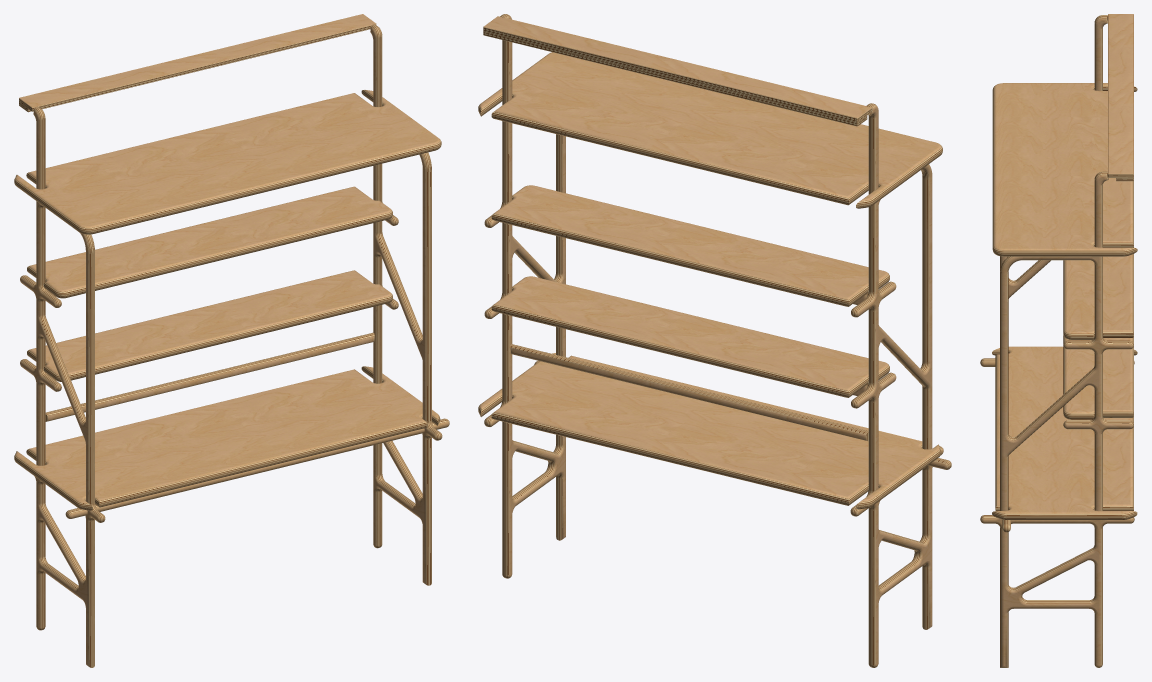
File: work-wall.glb
3 renders of one model, left to right at view 1: azimuth 30°, elevation 25°; view 2: azimuth 150°, elevation 25°; view 3: azimuth 270°, elevation 25°, orthographic. The views are drawn at different scales.
Visible parts, largest first — view 1: Work Wall: top_shelf, Work Wall: desk_top, Work Wall: shelf_2, Work Wall: shelf_1, Work Wall: side_frame_L, Work Wall: side_frame_R, Work Wall: top_rail_upper, Work Wall: back_rail_low, Work Wall: desk_front_rail; view 2: Work Wall: top_shelf, Work Wall: desk_top, Work Wall: shelf_2, Work Wall: shelf_1, Work Wall: side_frame_L, Work Wall: side_frame_R, Work Wall: top_rail_upper, Work Wall: back_rail_low, Work Wall: top_rail_lower; view 3: Work Wall: top_shelf, Work Wall: desk_top, Work Wall: side_frame_R, Work Wall: shelf_2, Work Wall: top_rail_upper, Work Wall: shelf_1, Work Wall: side_frame_L.
Part boxes in pixels (x1,y1,x2,y2): Work Wall: top_shelf: (14,90,441,234); Work Wall: desk_top: (14,366,440,510); Work Wall: shelf_2: (27,186,392,298); Work Wall: shelf_1: (27,270,392,381); Work Wall: side_frame_L: (20,106,105,667); Work Wall: side_frame_R: (370,24,442,585); Work Wall: top_rail_upper: (19,14,376,111); Work Wall: back_rail_low: (45,332,374,421); Work Wall: desk_front_rail: (65,418,449,518); Work Wall: top_shelf: (478,52,942,208); Work Wall: desk_top: (478,353,941,509); Work Wall: shelf_2: (491,185,889,306); Work Wall: shelf_1: (491,276,889,397); Work Wall: side_frame_L: (850,103,943,667); Work Wall: side_frame_R: (484,14,565,578); Work Wall: top_rail_upper: (483,16,871,122); Work Wall: back_rail_low: (510,344,868,441); Work Wall: top_rail_lower: (483,31,867,126); Work Wall: top_shelf: (992,83,1137,256); Work Wall: desk_top: (992,346,1137,519); Work Wall: side_frame_R: (980,171,1134,667); Work Wall: shelf_2: (1063,254,1133,339); Work Wall: top_rail_upper: (1108,14,1133,177); Work Wall: shelf_1: (1063,335,1133,419); Work Wall: side_frame_L: (980,15,1134,366).
Size of the model in its own units: 1.82 by 2.36 by 0.6787.
2 materials, 2 textured.
